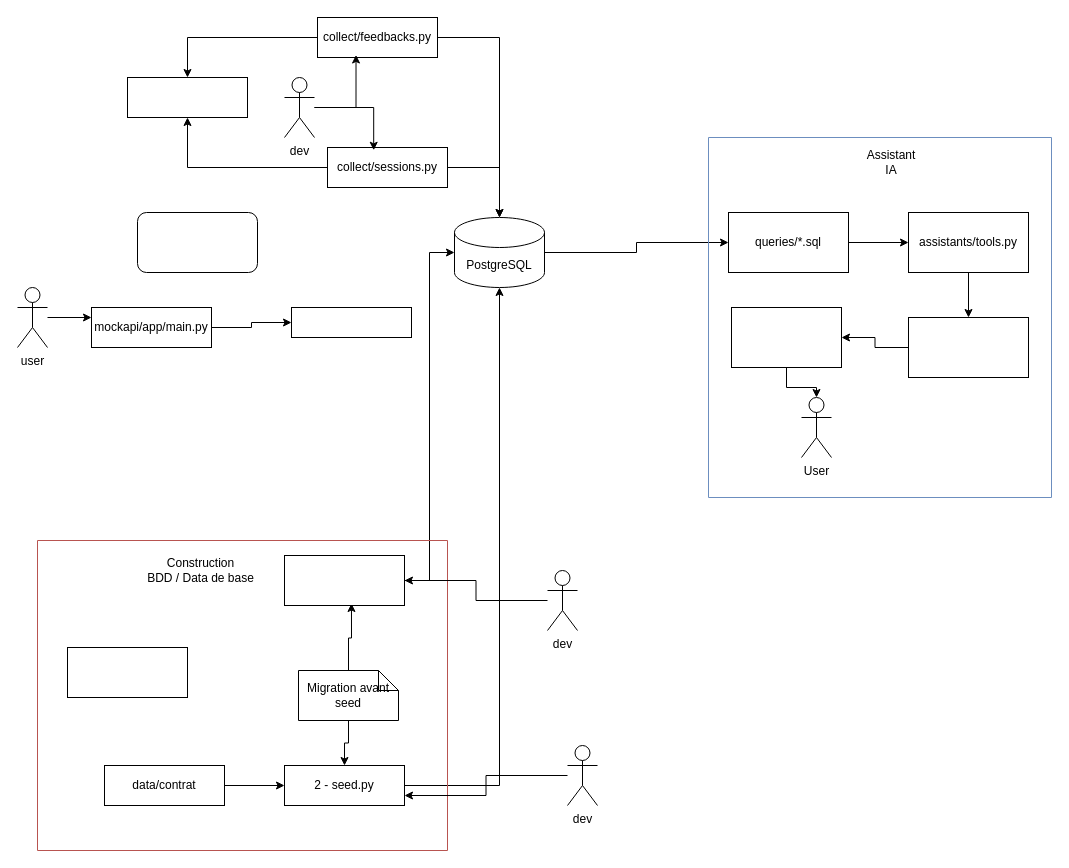
This 1069x868 diagram has some shape labels left out. Here are the shapes that lost their labels. From the top down, the box of each, then its label:
(126, 76, 248, 118): collect/_common.py
(136, 212, 258, 272): A lier API Collect
(290, 306, 412, 338): ./seed.py
(730, 306, 842, 368): scripts/chat.py
(908, 316, 1028, 378): assistants/agent .py
(284, 554, 404, 606): 1 - Migration construit les tables
(66, 646, 188, 698): 2-ingest
